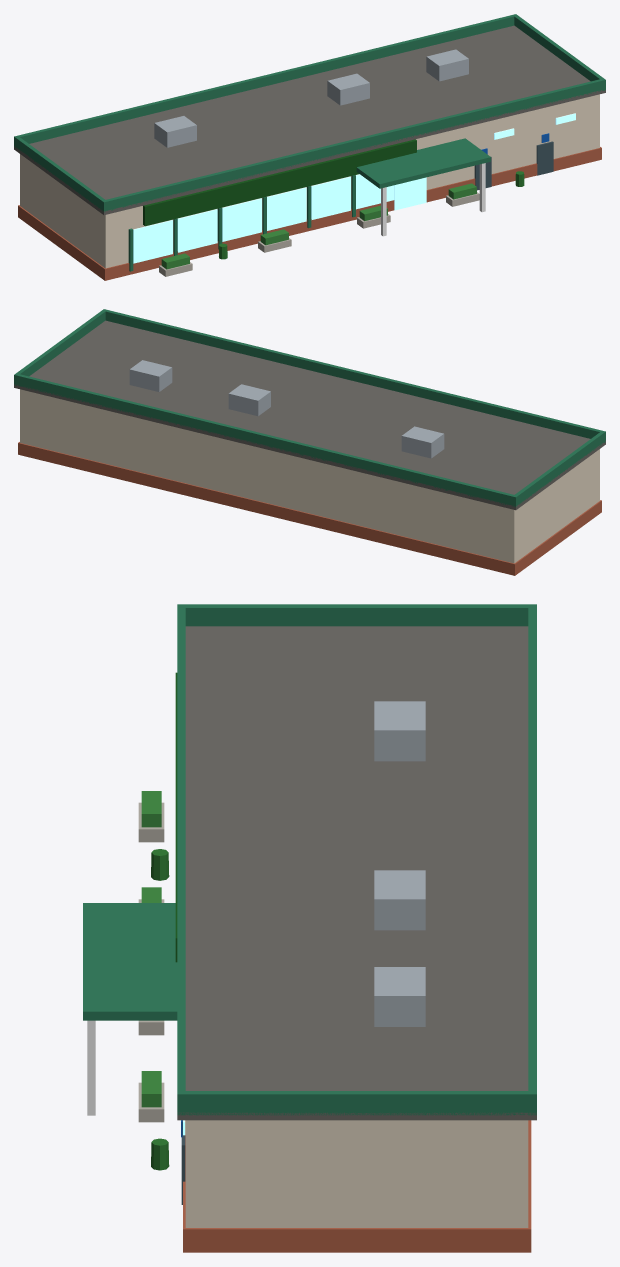
Rendered from exits_building.glb.
3 renders of one model, top to bottom at view 1: azimuth 30°, elevation 25°; view 2: azimuth 150°, elevation 25°; view 3: azimuth 270°, elevation 25°, orthographic. The views are drawn at different scales.
Visible parts, largest first — view 1: ExitsBuilding_body; view 2: ExitsBuilding_body; view 3: ExitsBuilding_body.
Part boxes in pixels (x1,y1,x2,y2): ExitsBuilding_body: [14, 14, 605, 280]; ExitsBuilding_body: [14, 309, 605, 575]; ExitsBuilding_body: [83, 604, 536, 1252].
Bounding box in the file's own units: 40.6 × 6.7 × 15.9.
